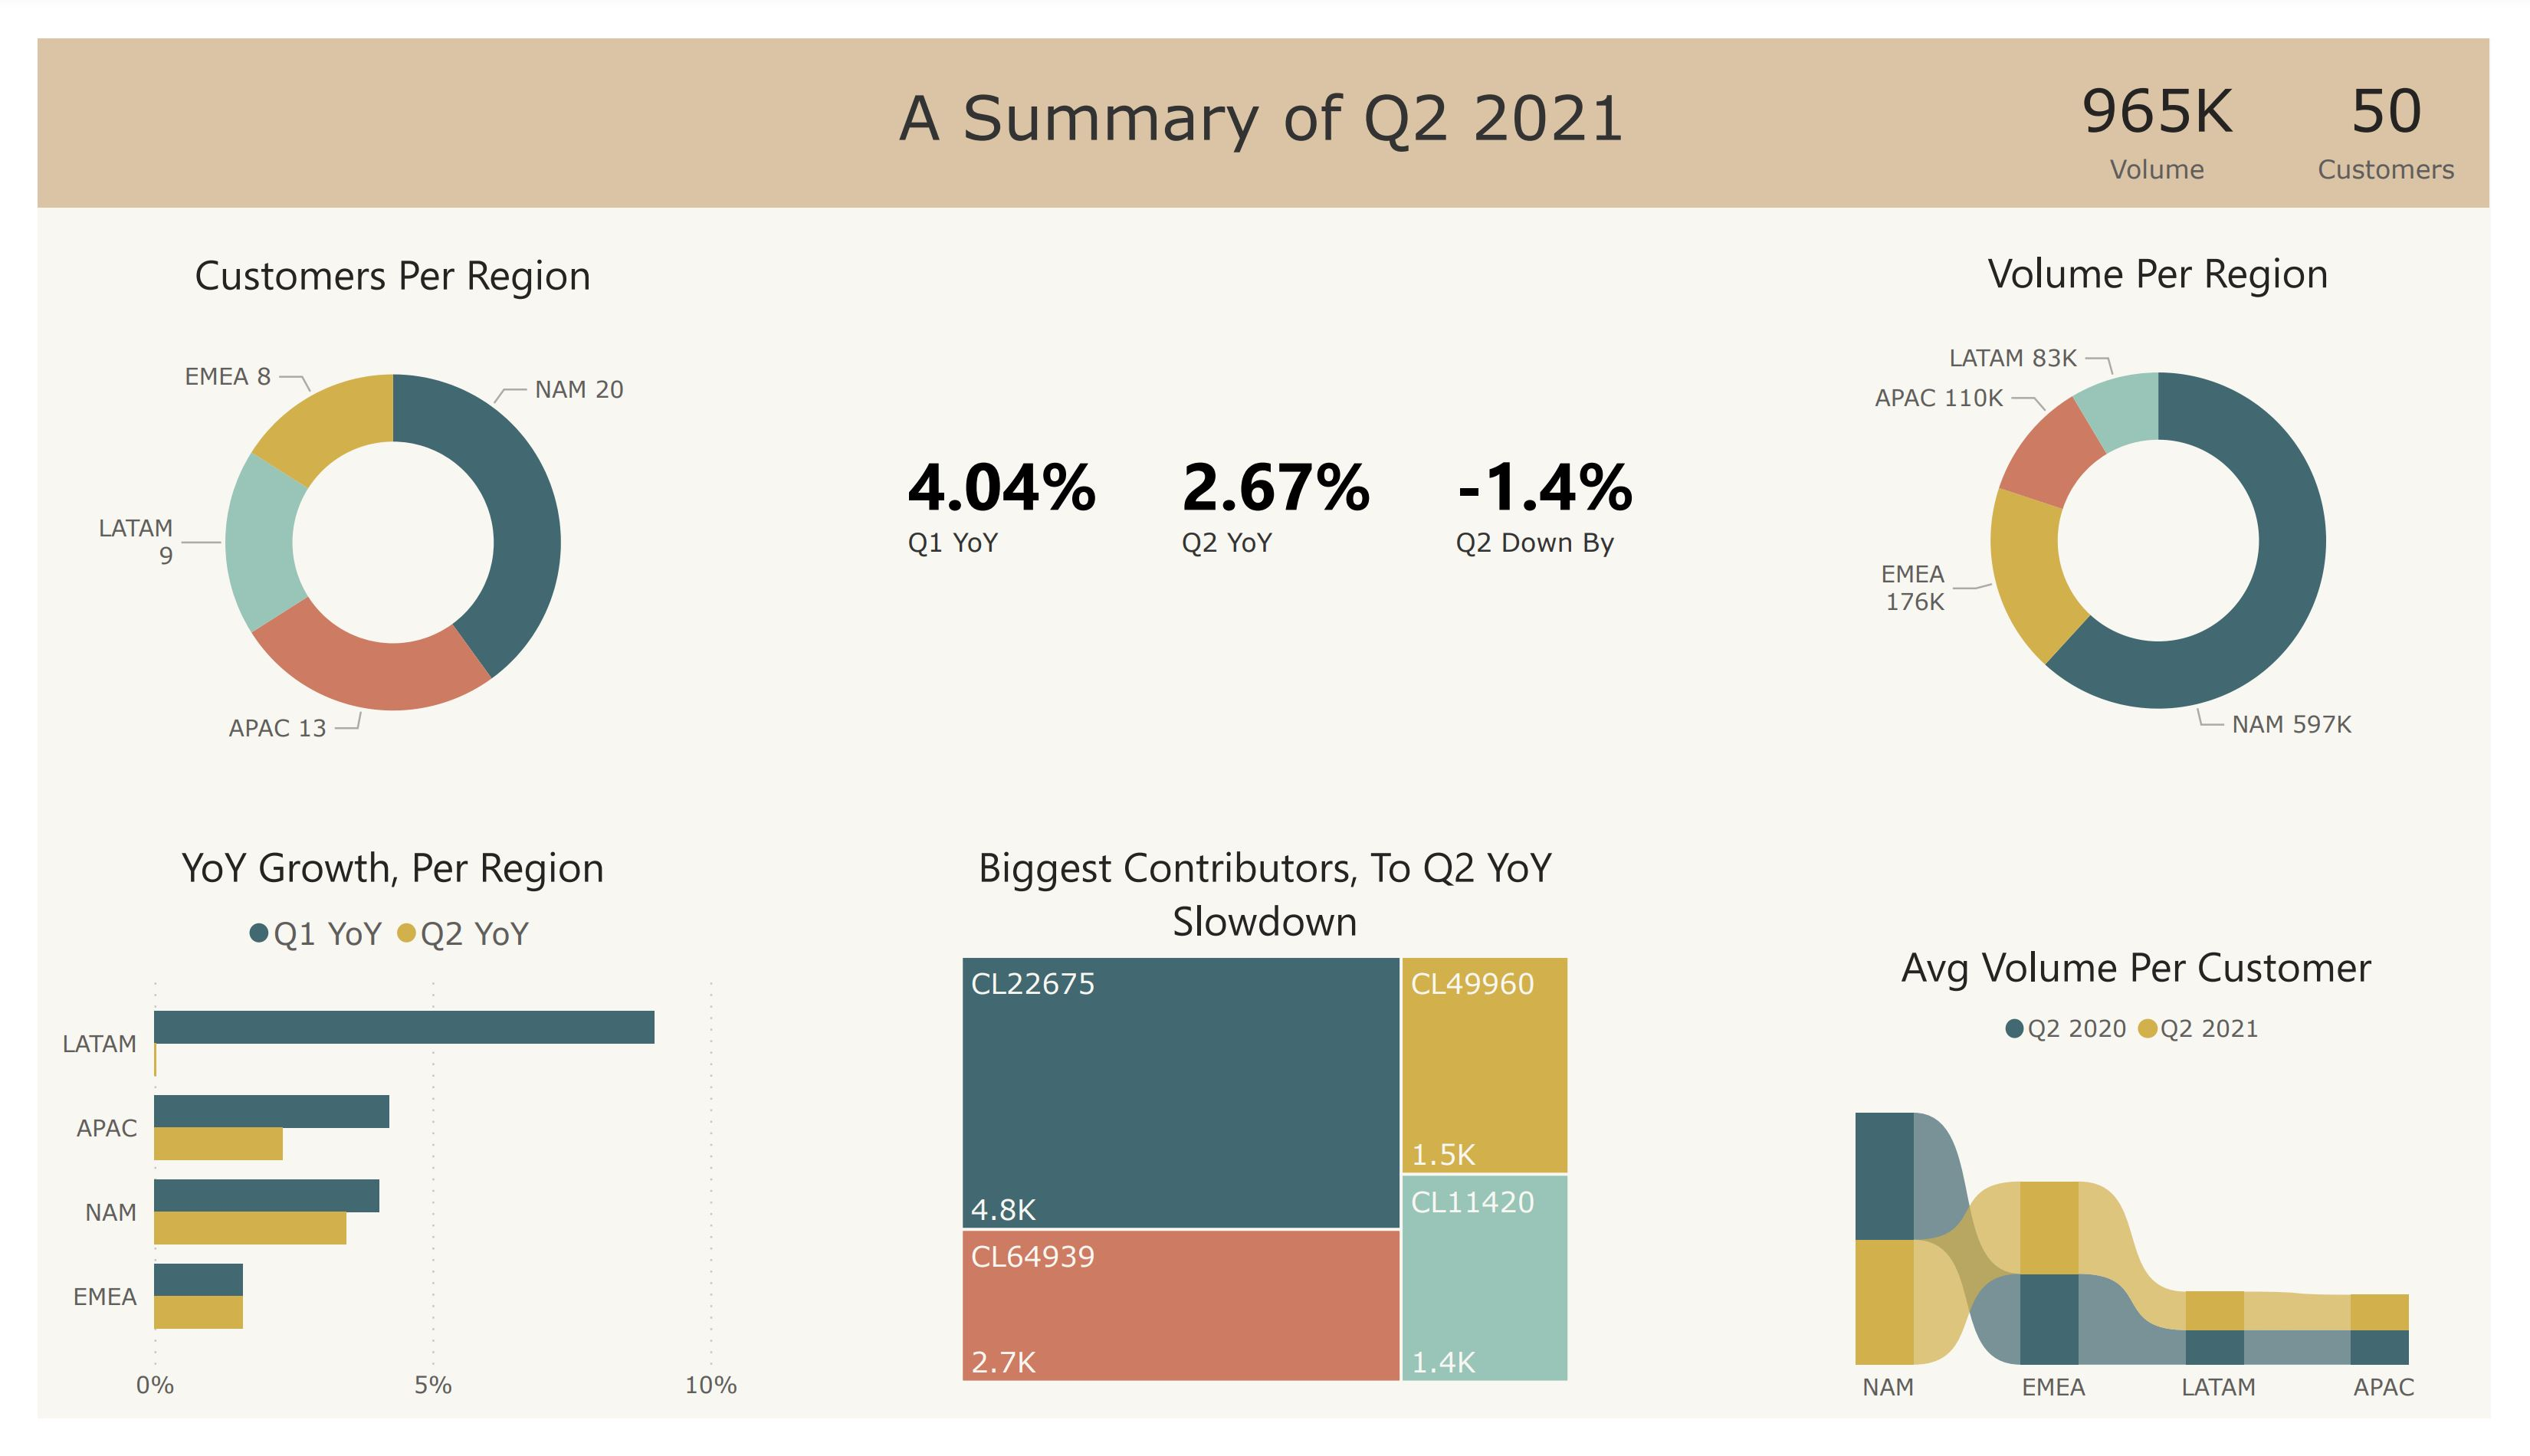

What the dashboard file says about the page in this screenshot:
{"tool":"powerbi","page":{"name":"Page 1","canvas":[1280,720],"ordinal":0},"visuals":[{"type":"clusteredBarChart","title":"YoY Growth, Per Region","fields":{"Category":["Q2vsQ1_Summary.Region"],"Y":["Sum(Q2vsQ1_Summary.Q1 YoY (%))","Sum(Q2vsQ1_Summary.Q2 YoY (%))"]},"box":[0,416.5,371.3,303.5],"z":0},{"type":"multiRowCard","fields":{"Values":["Q2vsQ1_Summary.Q1 YoY (%)","Q2vsQ1_Summary.Q2 YoY (%)","Q2vsQ1_Summary.Q2 vs Q1 (%)"]},"box":[448.7,203.5,439.1,94],"z":1000},{"type":"textbox","box":[0,0,1279.3,88.1],"z":2000},{"type":"card","fields":{"Values":["Sum(VolumePerRegion.Q2 2021)"]},"box":[1041.3,4.8,129.7,80.9],"z":3000},{"type":"card","fields":{"Values":["Sum(CustomerFlow.Q2 2021)"]},"box":[1170.5,4.8,109.5,80.9],"z":4000},{"type":"ribbonChart","title":"Avg Volume Per Customer","fields":{"Category":["AverageVolumePerCustomer.Region"],"Y":["Sum(AverageVolumePerCustomer.Q2 2020)","Sum(AverageVolumePerCustomer.Q2 2021)"]},"box":[909.2,468.9,371.3,252.3],"z":5000},{"type":"donutChart","title":"Volume Per Region","fields":{"Y":["Sum(VolumePerRegion.Q2 2021)"],"Category":["VolumePerRegion.Region"]},"box":[940.2,107.1,333.2,282],"z":6000},{"type":"treemap","title":"Biggest Contributors, To Q2 YoY Slowdown","fields":{"Group":["ClientsOfInterest.CLID"],"Values":["Sum(ClientsOfInterest.Volume Loss)"]},"box":[477.2,416.5,327.3,289.2],"z":7000},{"type":"donutChart","title":"Customers Per Region","fields":{"Category":["VolumePerRegion.Region"],"Y":["Sum(CustomerFlow.Q2 2021)"]},"box":[19,108.3,333.2,282],"z":8000}]}

Visuals, with their boxes in screenshot pixels (x1, y1, x2, y2), scaled from the page's 1280x720 canvas onto the 2530x1456 screenshot:
"YoY Growth, Per Region" clusteredBarChart: {"x1": 0, "y1": 842, "x2": 734, "y2": 1455}
multiRowCard - Q2vsQ1_Summary.Q1 YoY (%) x Q2vsQ1_Summary.Q2 YoY (%): {"x1": 887, "y1": 412, "x2": 1755, "y2": 602}
textbox: {"x1": 0, "y1": 0, "x2": 2528, "y2": 178}
card - Sum(VolumePerRegion.Q2 2021): {"x1": 2058, "y1": 10, "x2": 2315, "y2": 173}
card - Sum(CustomerFlow.Q2 2021): {"x1": 2314, "y1": 10, "x2": 2529, "y2": 173}
"Avg Volume Per Customer" ribbonChart: {"x1": 1797, "y1": 948, "x2": 2529, "y2": 1455}
"Volume Per Region" donutChart: {"x1": 1859, "y1": 217, "x2": 2517, "y2": 787}
"Biggest Contributors, To Q2 YoY Slowdown" treemap: {"x1": 943, "y1": 842, "x2": 1590, "y2": 1427}
"Customers Per Region" donutChart: {"x1": 38, "y1": 219, "x2": 696, "y2": 789}
